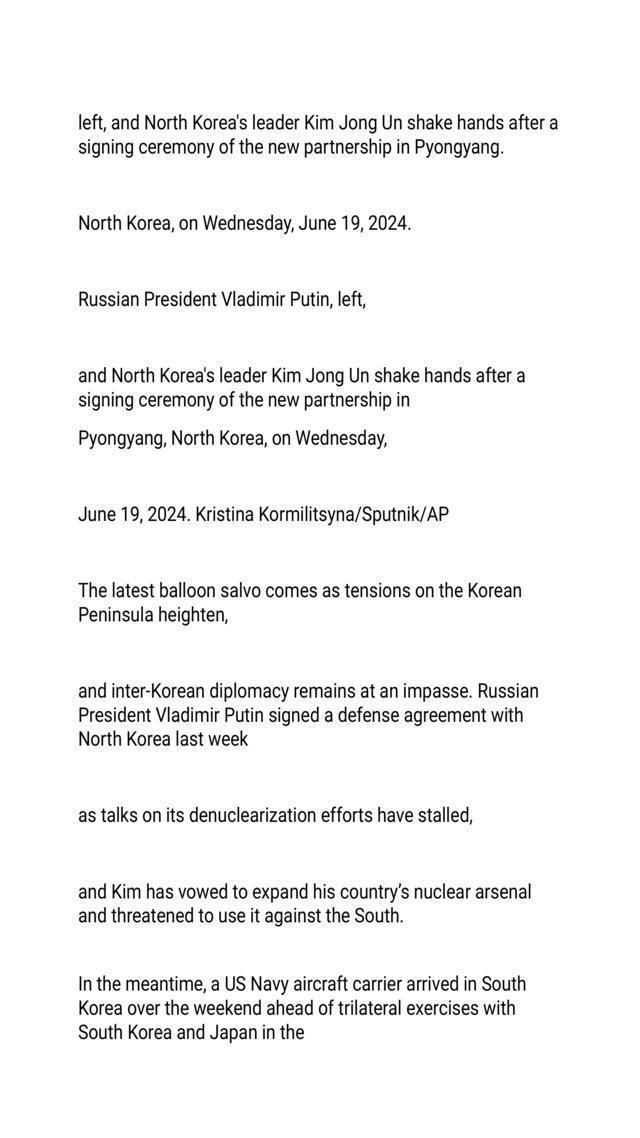Text: (78, 574, 530, 604), (67, 800, 488, 832), (70, 500, 460, 534), (70, 110, 564, 136), (66, 677, 546, 702), (74, 363, 534, 389), (73, 970, 532, 996), (72, 136, 510, 162), (70, 878, 540, 902), (75, 206, 418, 238), (71, 998, 522, 1022), (67, 704, 534, 726), (72, 423, 396, 453), (74, 390, 422, 417), (74, 286, 376, 316), (71, 905, 411, 930), (72, 1024, 314, 1048), (70, 729, 258, 754), (76, 604, 236, 632)
